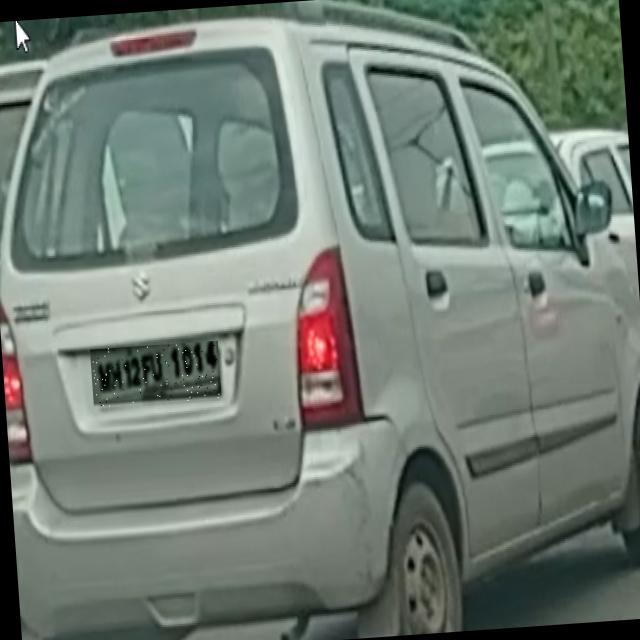Plate: (91, 342, 223, 409)
